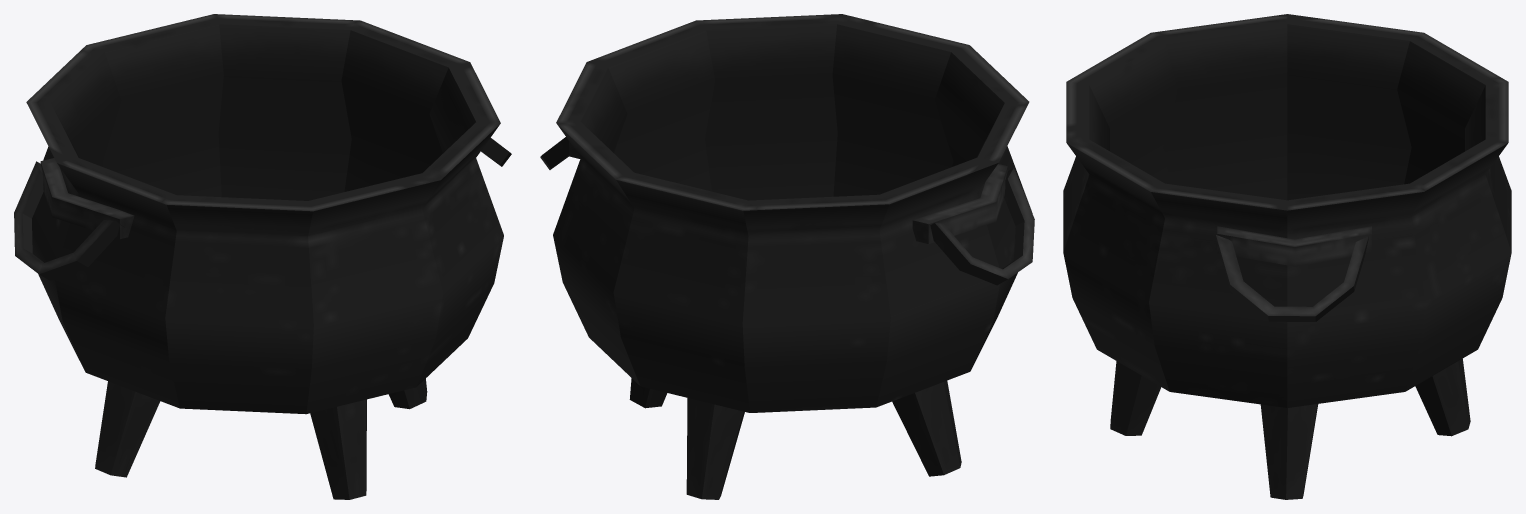
Rendered from cauldronPot.fbx.
3 renders of one model, left to right at view 1: azimuth 30°, elevation 25°; view 2: azimuth 150°, elevation 25°; view 3: azimuth 270°, elevation 25°, orthographic. The views are drawn at different scales.
Visible parts, largest first — view 1: pCylinder19; view 2: pCylinder19; view 3: pCylinder19.
Boxes of the visible parts, left/top/right/bottom form: pCylinder19: left=14, top=14, right=511, bottom=499; pCylinder19: left=540, top=14, right=1034, bottom=499; pCylinder19: left=1063, top=14, right=1511, bottom=499.
Size of the model in its own units: 909 by 602 by 768.
